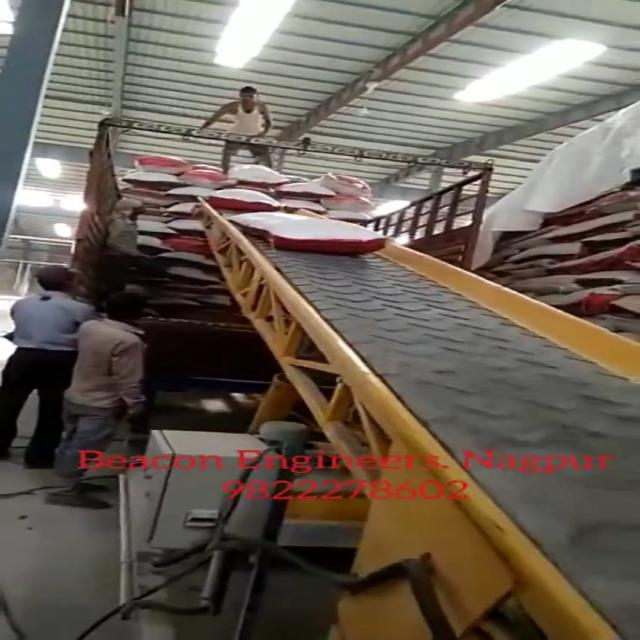Convoyeur: (195, 199, 640, 640)
